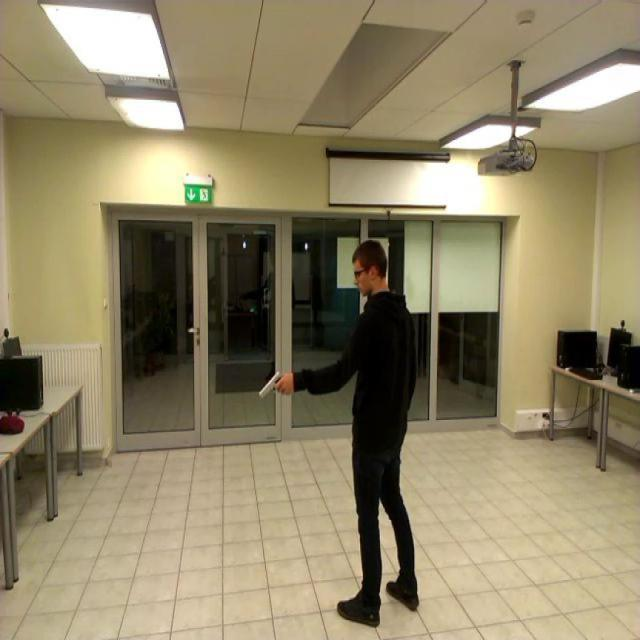pistol: (259, 371, 288, 398)
